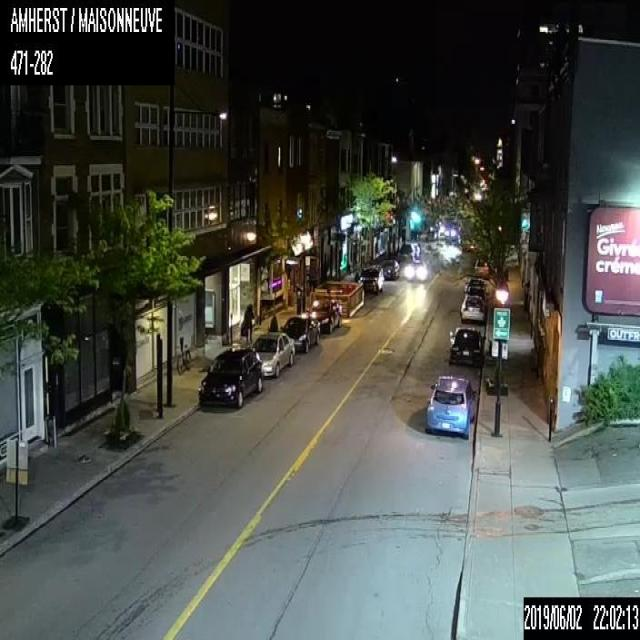pedestrian: (240, 303, 255, 341), (268, 315, 278, 329)
vehicle: (198, 348, 261, 408), (424, 372, 476, 439), (251, 331, 294, 377), (280, 313, 320, 352), (449, 327, 486, 361), (305, 298, 341, 330), (357, 265, 383, 294), (459, 294, 485, 322), (464, 276, 487, 294), (406, 258, 424, 279), (380, 259, 399, 278), (467, 284, 486, 300)
